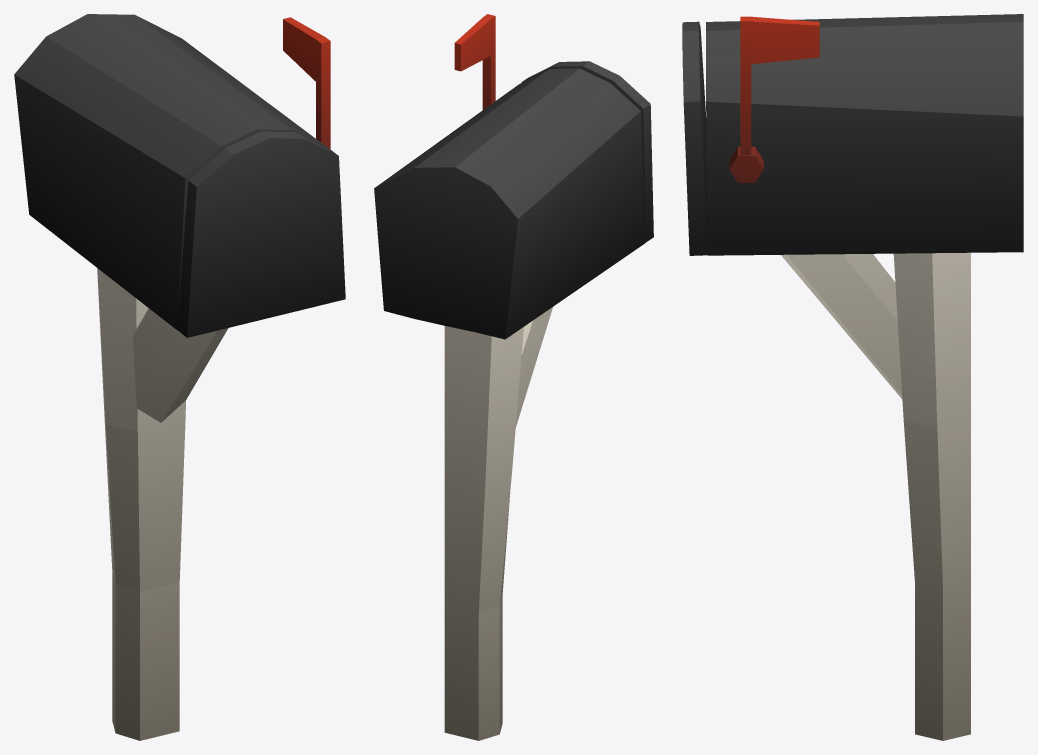
The picture shows the model from 3 angles, left to right: view 1: azimuth 30°, elevation 25°; view 2: azimuth 150°, elevation 25°; view 3: azimuth 270°, elevation 25°; orthographic projection. The views are drawn at different scales.
Parts seen in each view (by area): view 1: 2.001; view 2: 2.001; view 3: 2.001.
Part boxes in pixels (<box>): 2.001: <box>14,14,345,740</box>; 2.001: <box>374,14,653,740</box>; 2.001: <box>682,14,1023,740</box>.
Bounding box in the file's own units: 0.7957 × 3.16 × 1.31.
1 material, 1 textured.
